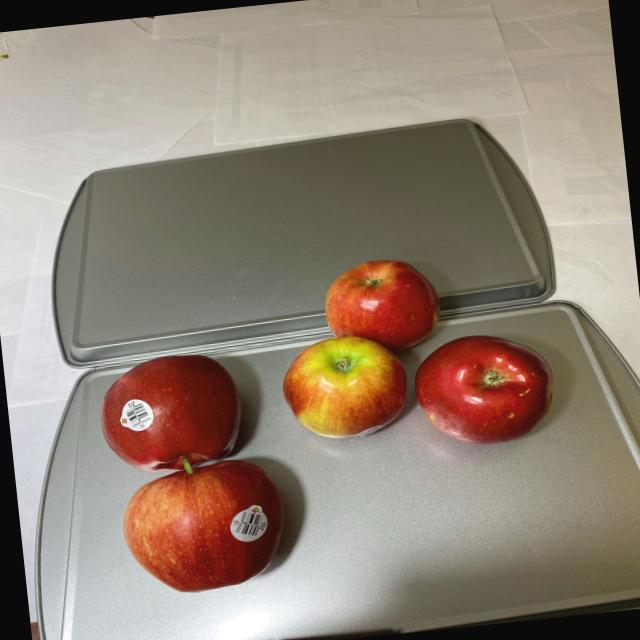apple: (270, 239, 568, 465), (84, 341, 294, 605)
